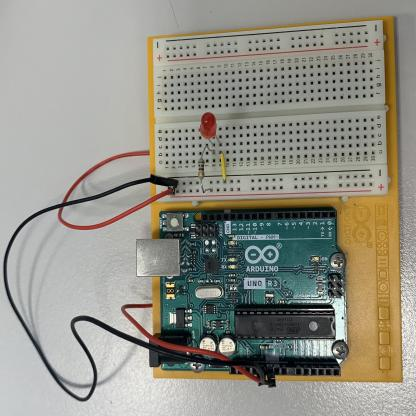5V: (112, 220, 263, 388), (51, 140, 146, 239), (150, 186, 177, 220)
ARDUINO: (159, 204, 348, 373)
Breadboard: (153, 17, 392, 201)
GND: (1, 172, 283, 406)
LED: (200, 112, 217, 139)
Resistor: (198, 157, 205, 180)
Short wire: (220, 152, 227, 183)
